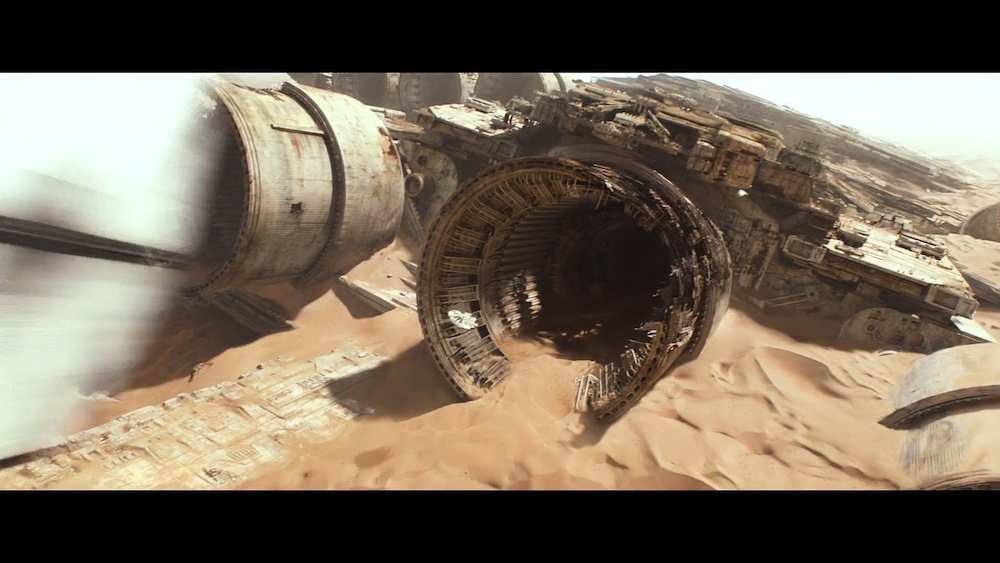Millennium Falcon: (448, 311, 479, 330)
Tie Fighter: (2, 76, 229, 467)
